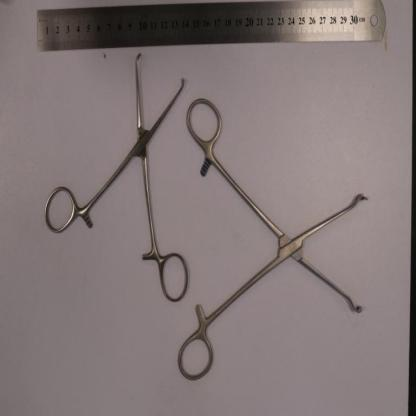8 Babcock Tissue Forceps: (178, 96, 369, 382)
Allis Tissue Forceps: (45, 50, 190, 304)
